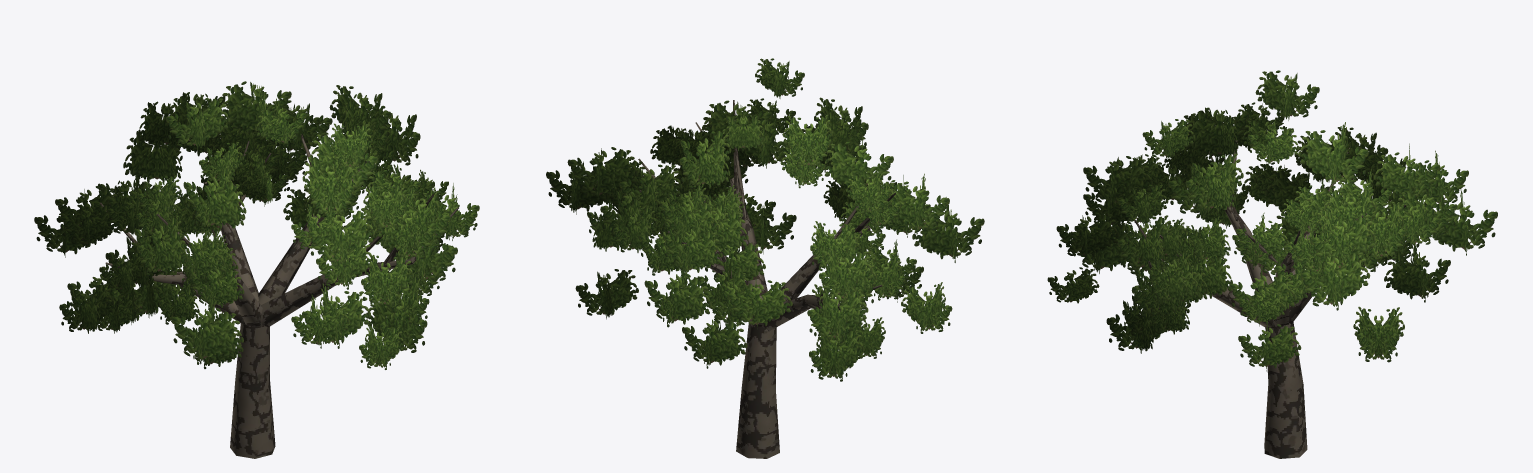
Rendered from oak0_lod0.fbx.
3 renders of one model, left to right at view 1: azimuth 30°, elevation 25°; view 2: azimuth 150°, elevation 25°; view 3: azimuth 270°, elevation 25°, orthographic. The views are drawn at different scales.
Parts seen in each view (by area): view 1: oak0_lod0; view 2: oak0_lod0; view 3: oak0_lod0.
Boxes of the visible parts, x1,y1,x2,y2 form: oak0_lod0: [34, 81, 479, 458]; oak0_lod0: [546, 58, 984, 458]; oak0_lod0: [1047, 70, 1497, 458].
Size of the model in its own units: 10.35 by 9.31 by 10.53.
Materials: 2 (2 with a texture image).
